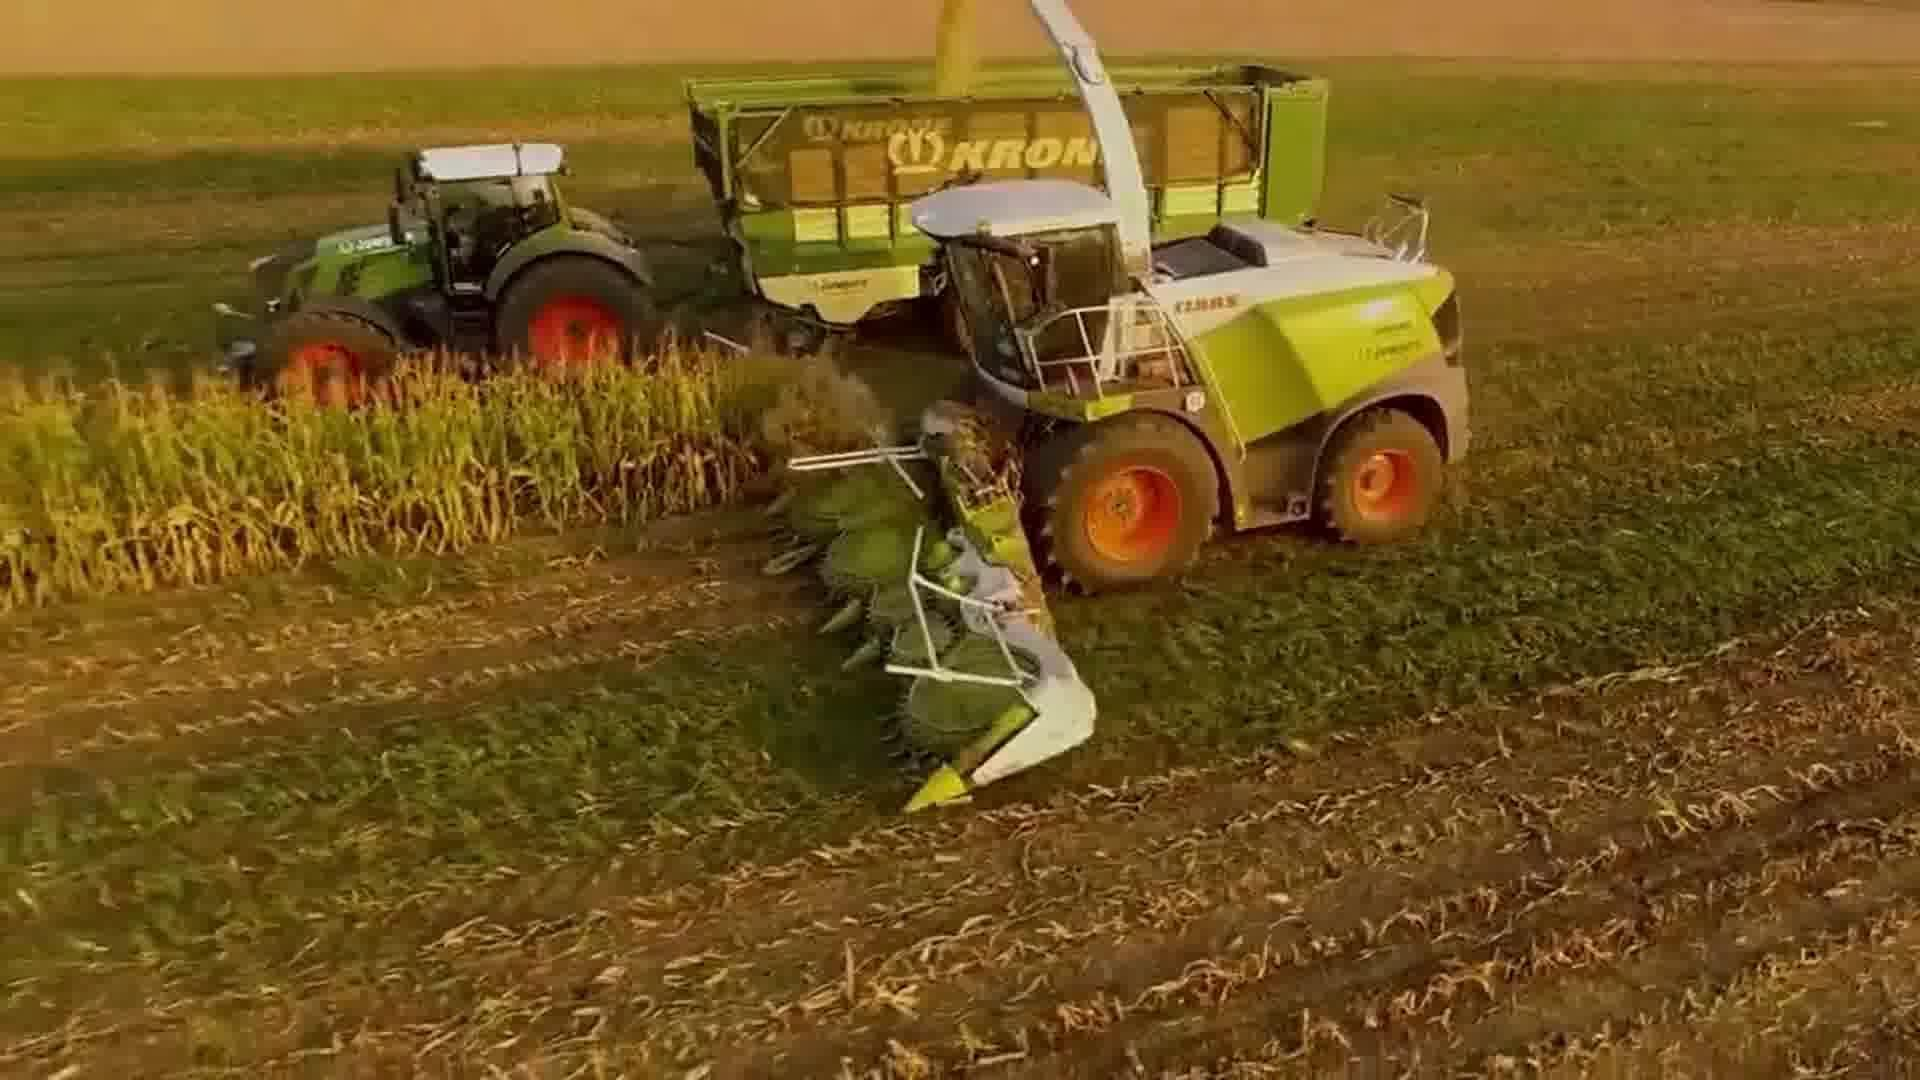combine harvester: (761, 0, 1484, 824)
tractor: (203, 131, 674, 442)
trailer: (682, 44, 1331, 360)
